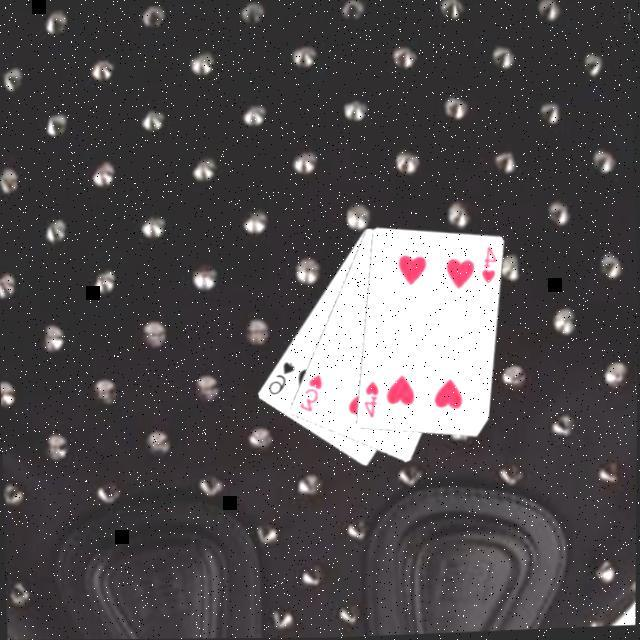3H: (294, 372, 323, 416)
4H: (476, 244, 498, 287), (358, 380, 379, 422)
9S: (262, 359, 296, 398)
